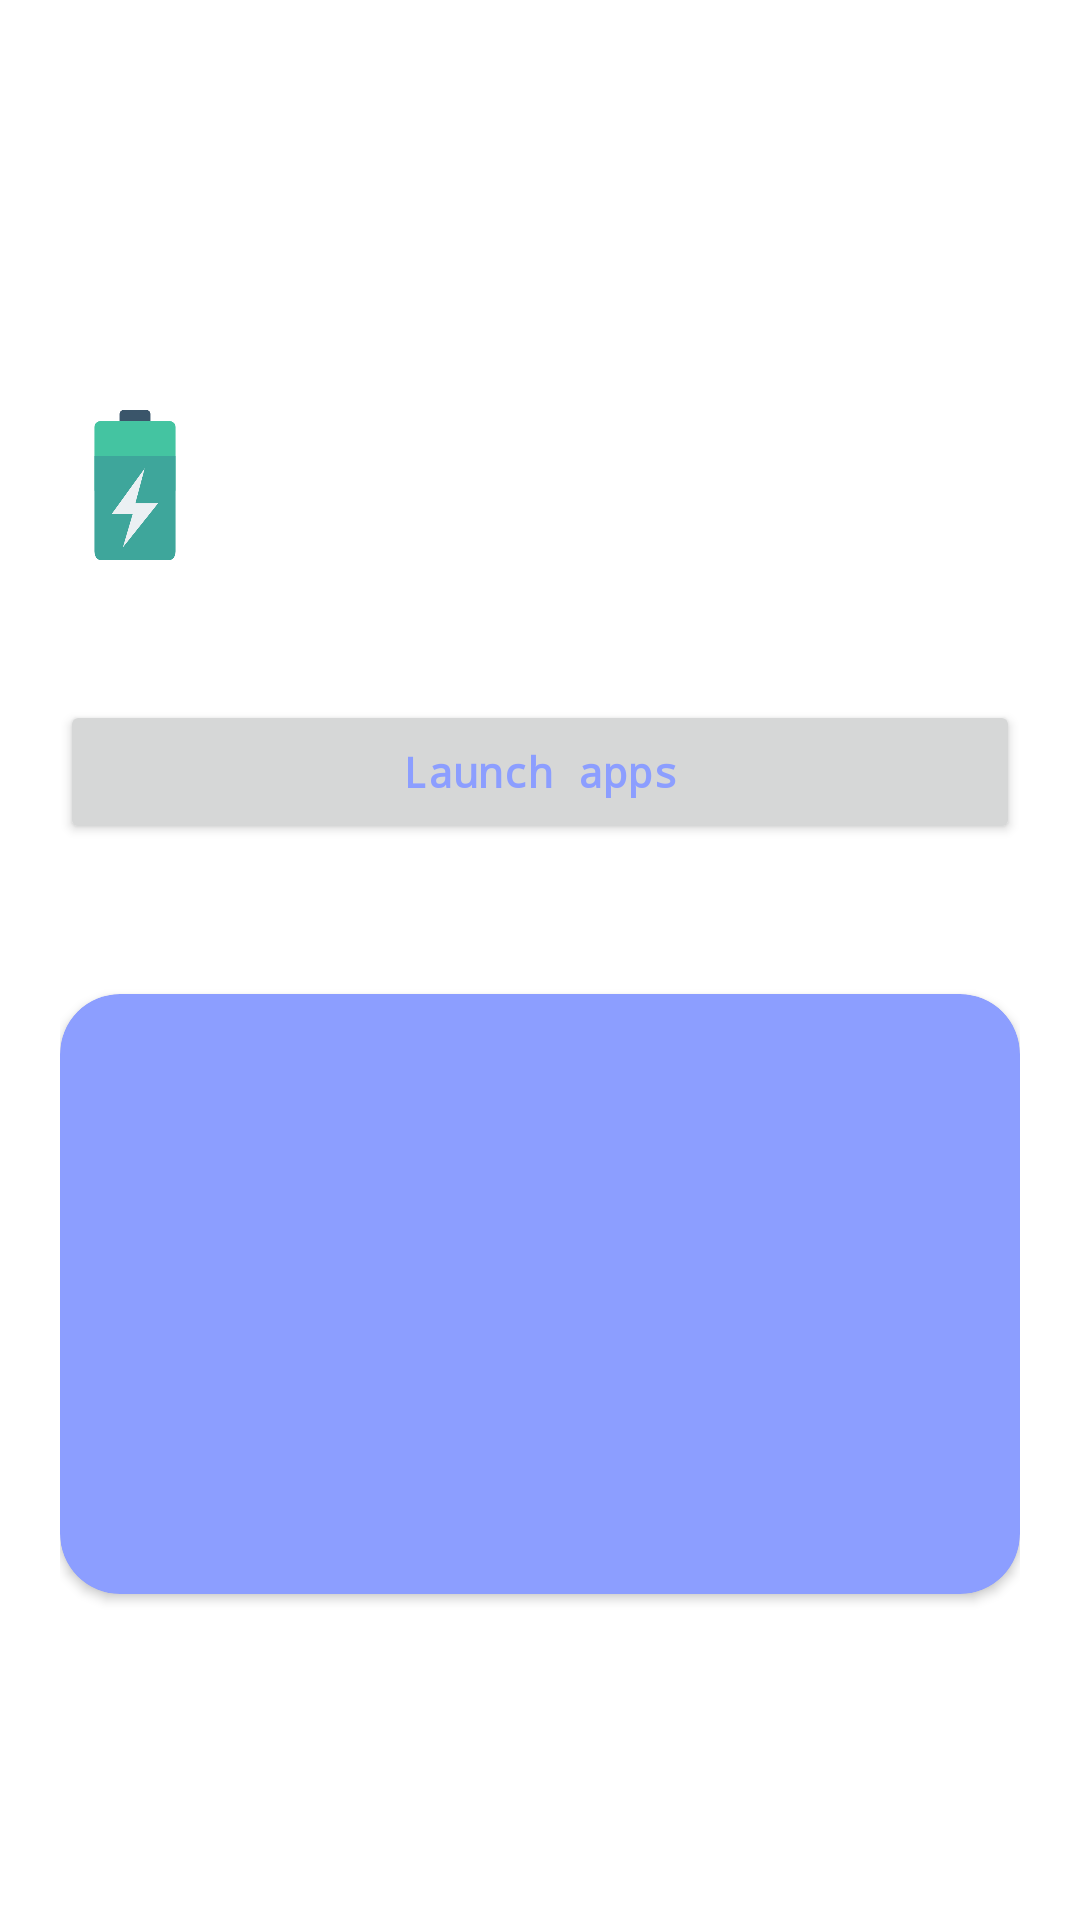

Where to tap for icons on this 1080×1920 app screen, as [x,y]:
battery: [135,485]
